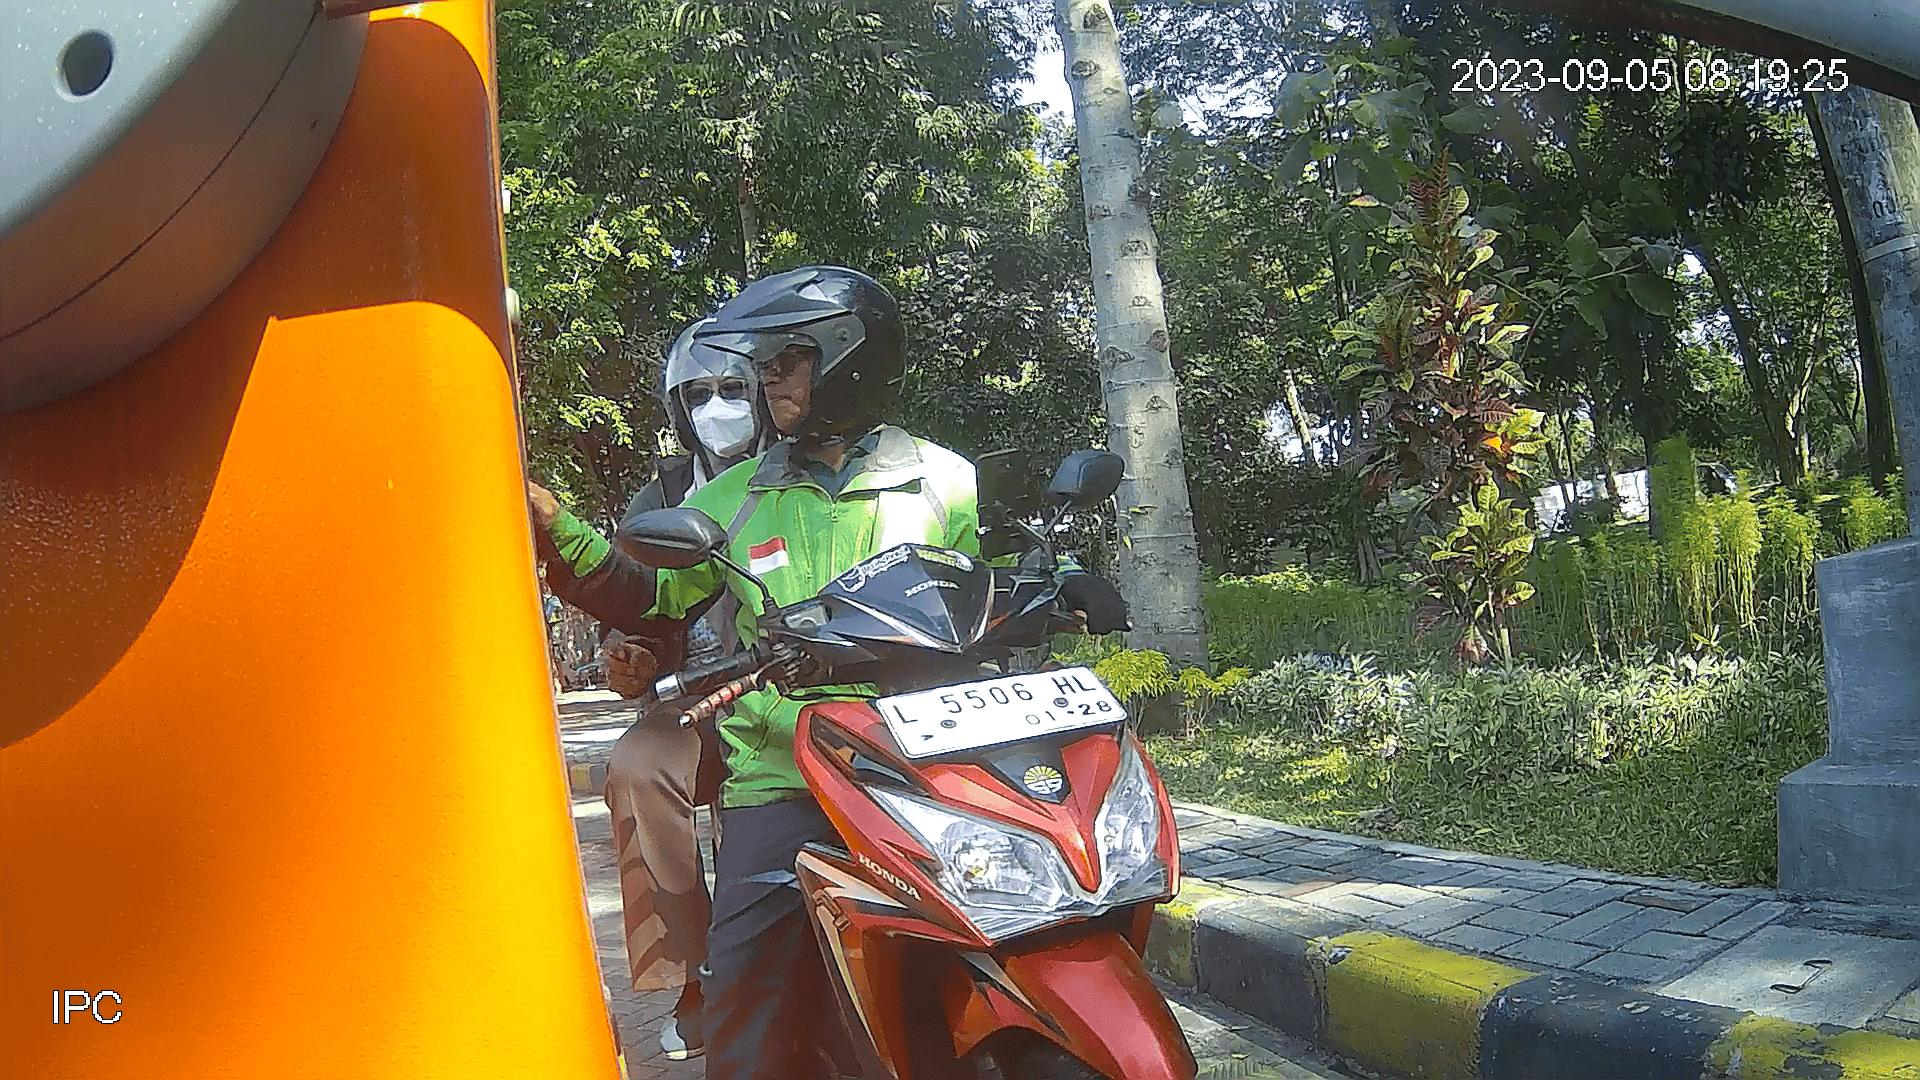plat: (869, 663, 1135, 761)
